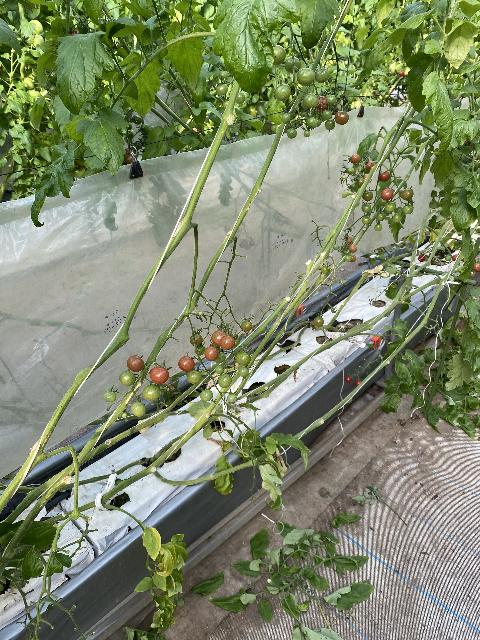l_fully_ripened: (150, 366, 170, 384), (315, 96, 331, 113), (178, 356, 195, 371), (379, 171, 390, 182), (365, 161, 375, 170), (355, 380, 362, 387), (345, 376, 352, 383)
l_green: (297, 68, 315, 86), (142, 385, 161, 402), (274, 84, 292, 101), (284, 56, 301, 73), (272, 45, 286, 65), (302, 93, 318, 110), (131, 401, 147, 417), (314, 67, 330, 83), (119, 371, 136, 386), (186, 369, 203, 384), (235, 351, 251, 366), (218, 373, 232, 388), (190, 333, 203, 346), (200, 389, 213, 402), (214, 350, 226, 364), (104, 391, 117, 403), (237, 366, 250, 378), (384, 201, 397, 213), (216, 84, 228, 96), (306, 117, 318, 129), (325, 94, 336, 106), (195, 345, 206, 356), (325, 119, 336, 130), (362, 190, 373, 201), (281, 113, 291, 124), (287, 128, 297, 139), (403, 204, 414, 214), (236, 92, 245, 104), (322, 110, 332, 120), (376, 212, 386, 222), (361, 203, 371, 213), (227, 394, 237, 403), (219, 71, 228, 81), (321, 265, 330, 275), (393, 213, 402, 223), (379, 197, 389, 206), (215, 365, 224, 374), (361, 216, 371, 224), (315, 117, 322, 127), (347, 167, 355, 175), (374, 223, 382, 231), (344, 254, 352, 262), (303, 130, 311, 137), (223, 100, 229, 109), (121, 412, 128, 418), (211, 401, 215, 405), (342, 176, 346, 179)
l_half_ripened: (126, 355, 145, 372), (211, 330, 228, 346), (204, 345, 219, 362), (334, 110, 349, 125), (220, 336, 235, 350), (381, 188, 394, 201), (401, 188, 414, 201), (313, 317, 324, 328), (241, 321, 253, 331), (351, 154, 360, 164), (356, 178, 365, 188), (349, 244, 358, 253), (350, 255, 357, 262)
